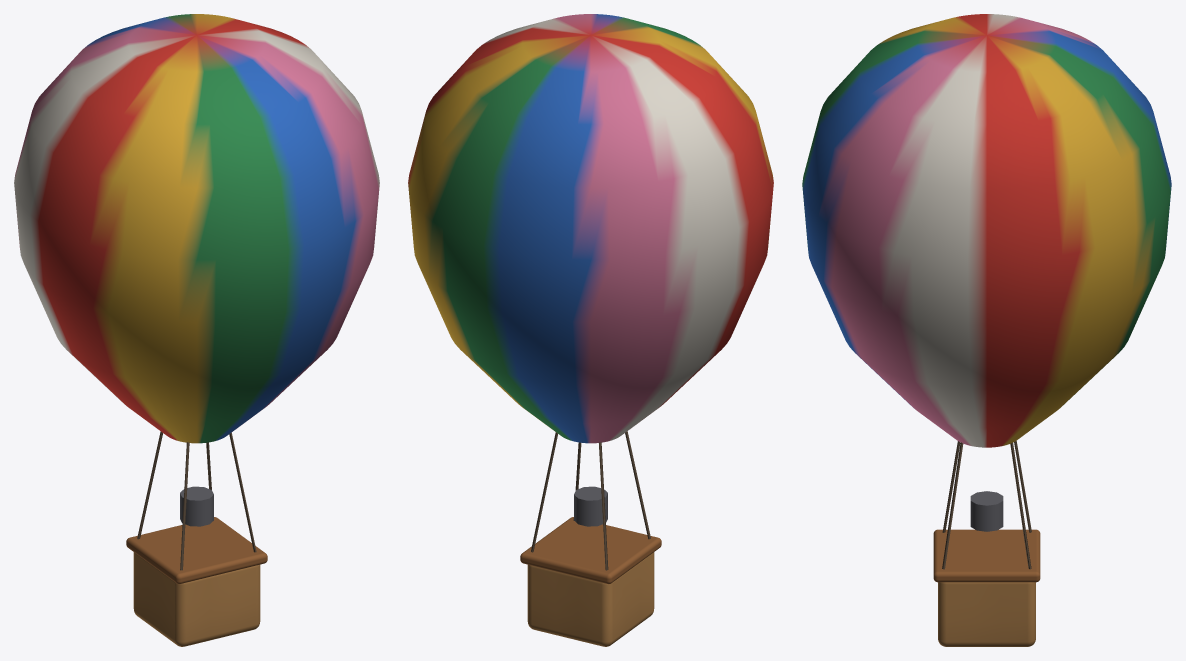
Rendered from sky_balloon.glb.
3 renders of one model, left to right at view 1: azimuth 30°, elevation 25°; view 2: azimuth 150°, elevation 25°; view 3: azimuth 270°, elevation 25°, orthographic.
Parts seen in each view (by area): view 1: sky_balloon_envelope, sky_balloon_main; view 2: sky_balloon_envelope, sky_balloon_main; view 3: sky_balloon_envelope, sky_balloon_main.
Boxes of the visible parts, box(x1,y1,x2,y2) form: sky_balloon_envelope: box(14, 14, 379, 443); sky_balloon_main: box(126, 431, 267, 646); sky_balloon_envelope: box(408, 14, 773, 443); sky_balloon_main: box(520, 431, 661, 646); sky_balloon_envelope: box(802, 14, 1171, 447); sky_balloon_main: box(933, 441, 1040, 646).
Size of the model in its own units: 1.28 by 2.27 by 1.28.
